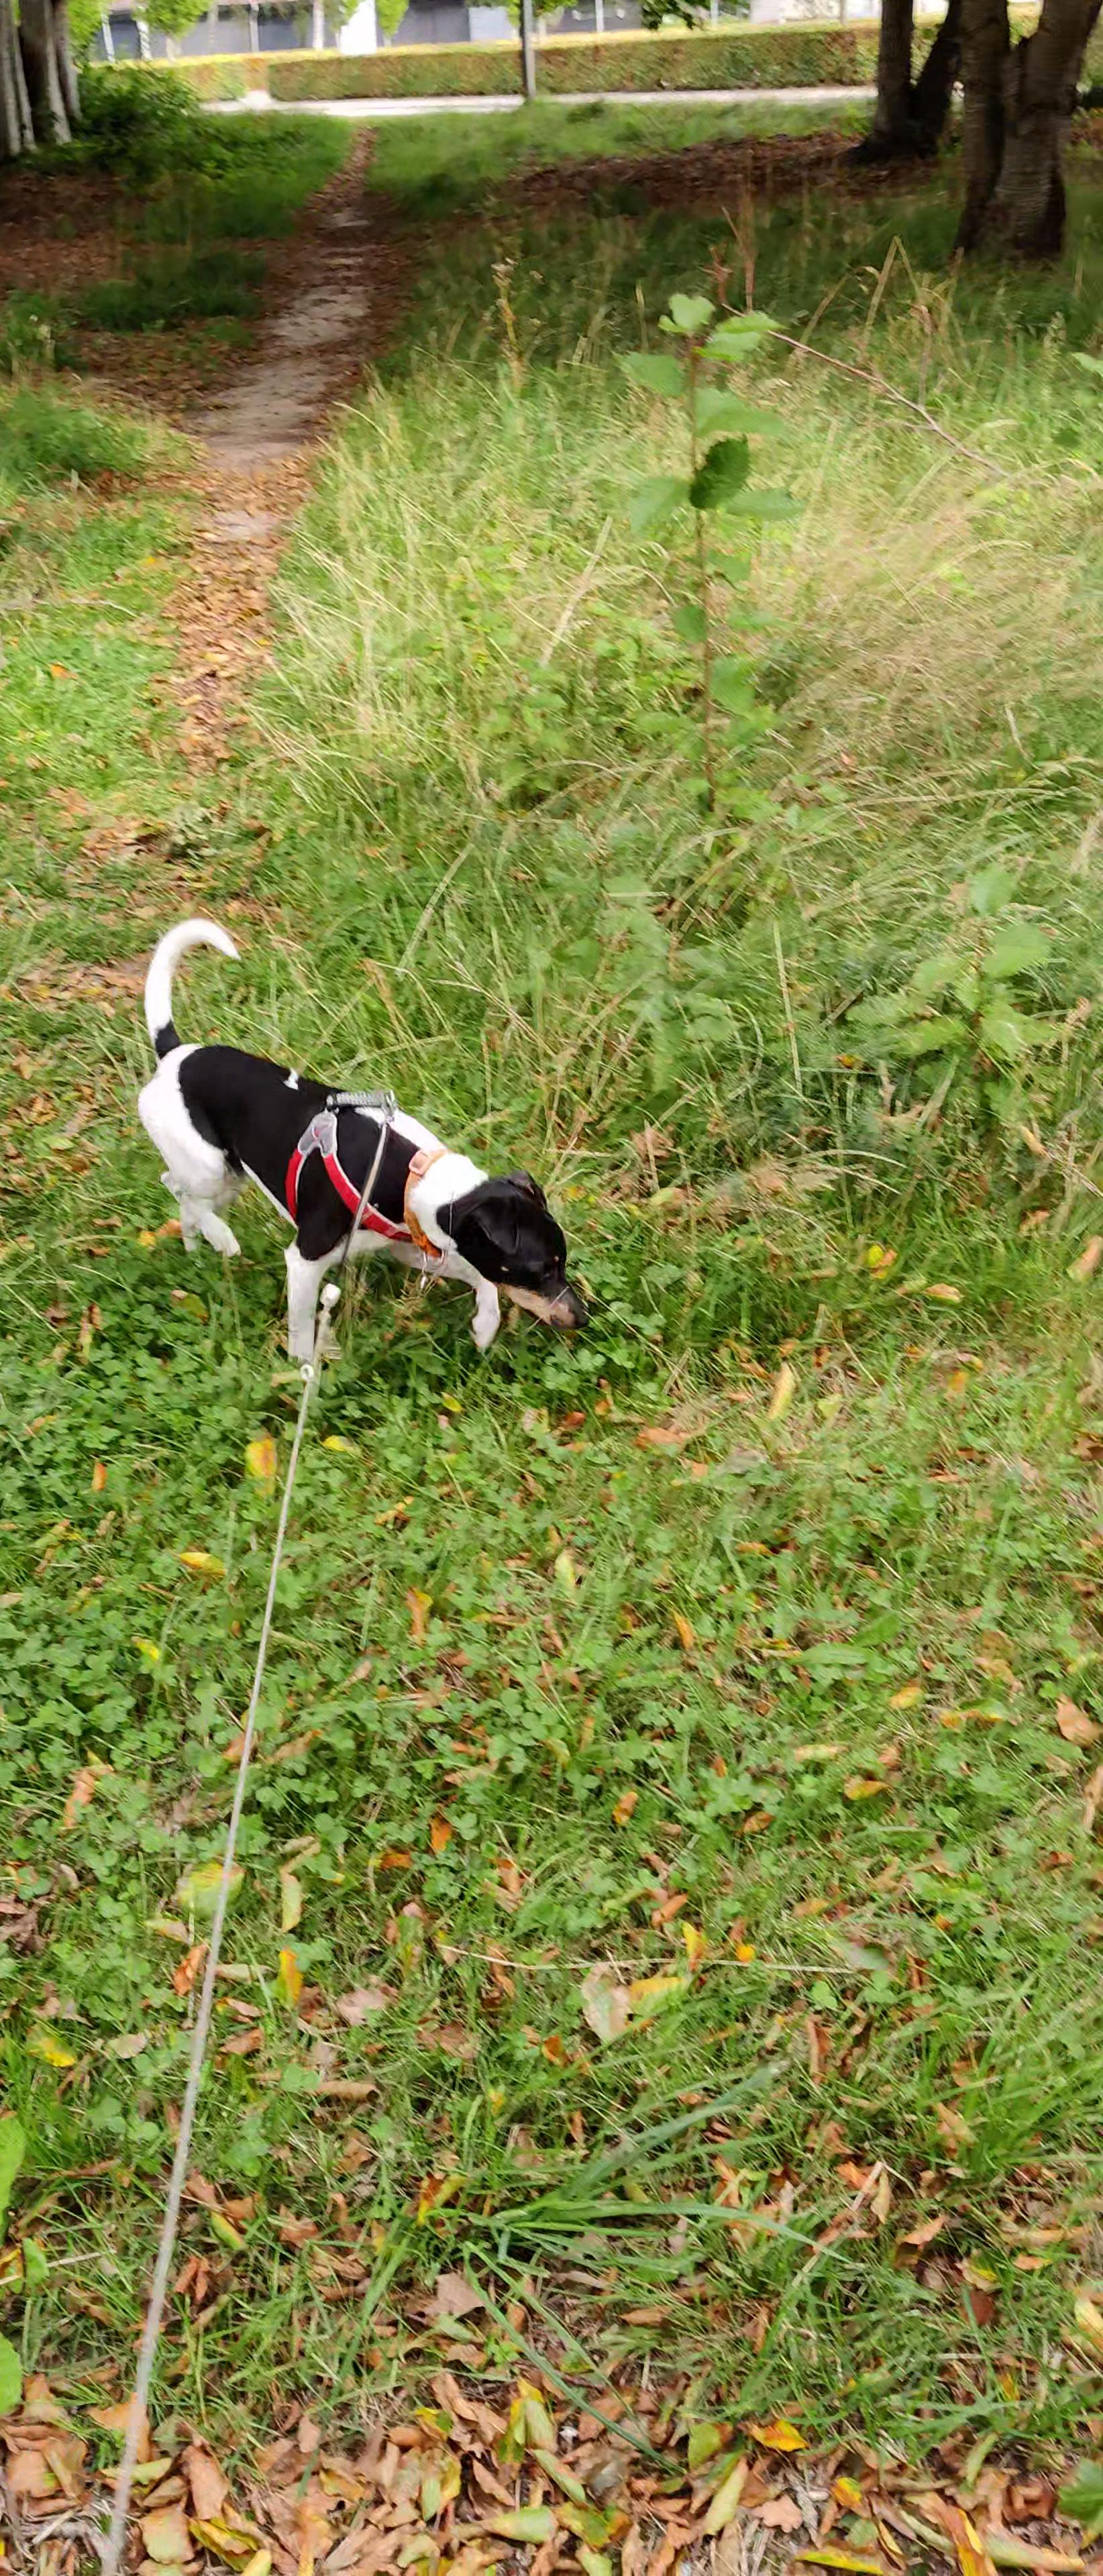Dog: (113, 879, 603, 1383)
